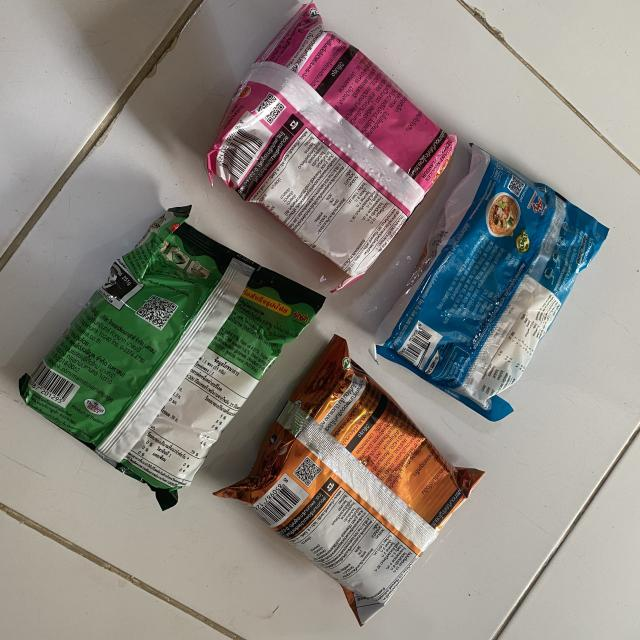plastik: (19, 206, 325, 510), (215, 335, 484, 622), (208, 2, 456, 289), (372, 145, 609, 420)
